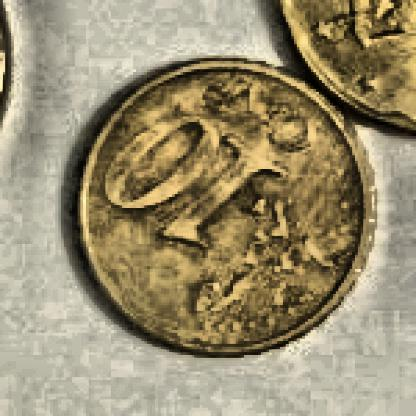coin: (73, 58, 370, 354)
